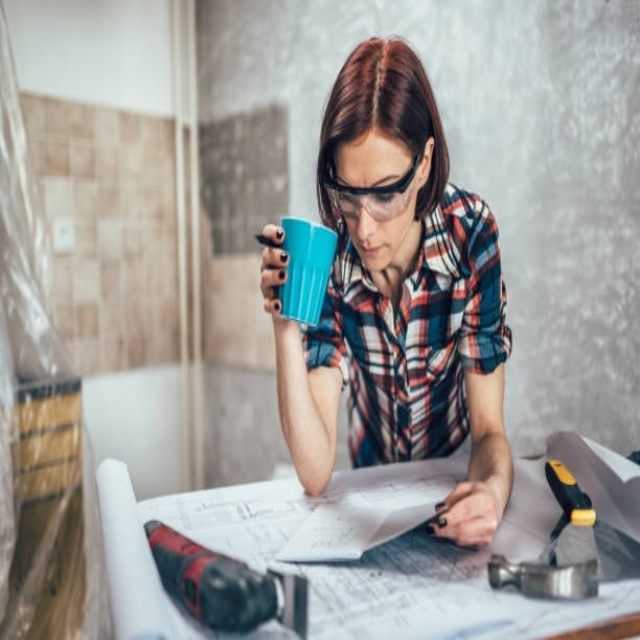Gafas: (323, 146, 423, 222)
Sin_guantes: (426, 478, 499, 550), (258, 225, 297, 324)
Sin_mascara: (353, 232, 392, 270)
